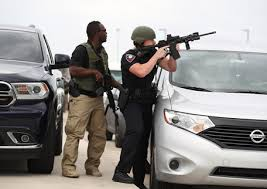Gun: (143, 32, 212, 58), (100, 62, 120, 118)
